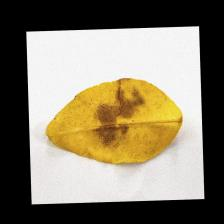black spot: (90, 90, 160, 150)
